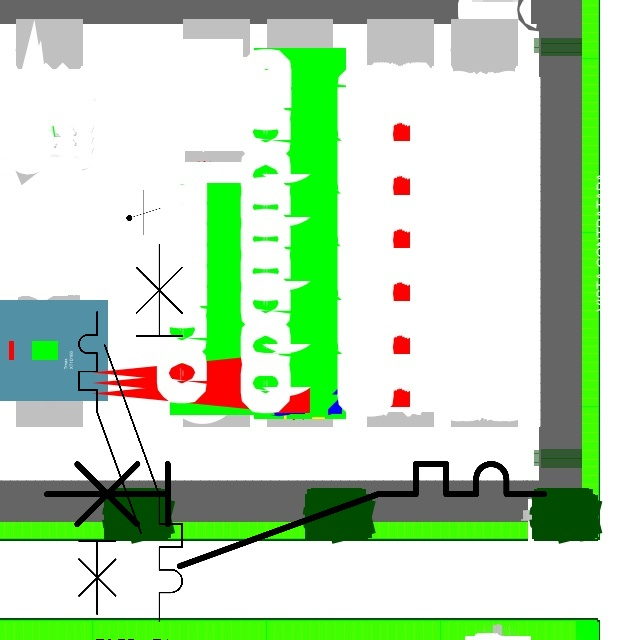interruptor_termomagnetico: (34, 451, 557, 579), (95, 234, 192, 630), (71, 304, 149, 622)
